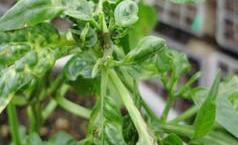Tomato leaf mosaic virus: (0, 20, 67, 145), (114, 36, 174, 85), (87, 96, 132, 145)
